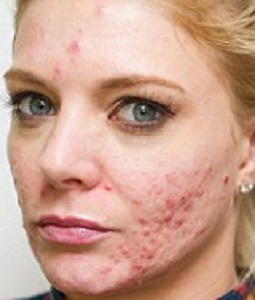bekas: (208, 171, 216, 180), (201, 198, 209, 207), (179, 227, 187, 236), (179, 245, 188, 253), (155, 252, 165, 259), (194, 167, 202, 175), (218, 194, 226, 202), (210, 195, 217, 204), (167, 190, 174, 198), (152, 194, 159, 202), (149, 179, 157, 186), (145, 188, 154, 194), (144, 196, 150, 205), (170, 169, 177, 176), (185, 178, 192, 185), (194, 213, 201, 220), (222, 160, 229, 167), (166, 178, 172, 186), (215, 210, 221, 218), (165, 173, 172, 179), (184, 172, 191, 178), (168, 239, 175, 245), (163, 233, 170, 239), (174, 231, 180, 238), (188, 226, 195, 232), (188, 217, 195, 223), (200, 213, 206, 220), (192, 233, 199, 239), (69, 55, 75, 62), (73, 61, 80, 67), (176, 182, 182, 188), (167, 257, 173, 263), (163, 246, 171, 250), (55, 276, 61, 281), (172, 182, 176, 188), (171, 243, 176, 247)
jerawat: (97, 5, 108, 15), (138, 214, 148, 225), (163, 211, 174, 221), (100, 266, 112, 275), (183, 203, 194, 212), (141, 262, 150, 273), (72, 41, 82, 50), (152, 214, 162, 223), (133, 197, 142, 206), (195, 187, 204, 196), (146, 251, 155, 260), (166, 199, 174, 209), (131, 261, 141, 269), (142, 227, 151, 235), (175, 218, 184, 226), (187, 189, 195, 198), (179, 194, 187, 203), (149, 234, 157, 243), (118, 279, 127, 287), (198, 226, 207, 234), (38, 189, 47, 197), (154, 224, 164, 231), (223, 174, 230, 184), (54, 65, 62, 73), (140, 244, 148, 252), (238, 160, 246, 168), (117, 240, 126, 247), (206, 163, 213, 172), (149, 261, 158, 268), (131, 24, 140, 31), (77, 26, 85, 33), (121, 247, 129, 254), (132, 228, 139, 235), (155, 187, 162, 194), (156, 241, 163, 248), (67, 278, 74, 285), (115, 257, 123, 263), (139, 251, 146, 257), (128, 274, 134, 281), (75, 278, 81, 285), (76, 288, 83, 294), (161, 34, 169, 39), (52, 74, 58, 80), (109, 251, 115, 257), (62, 282, 68, 288), (82, 279, 88, 285)
pus: (103, 183, 113, 192)
